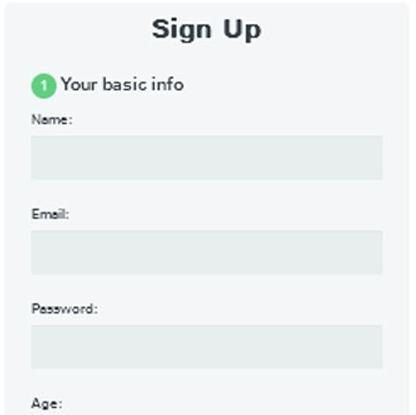field: (27, 322, 388, 371), (29, 227, 380, 277), (31, 134, 385, 181)
field_with_label: (24, 301, 393, 375), (27, 111, 389, 185), (26, 206, 384, 279)
